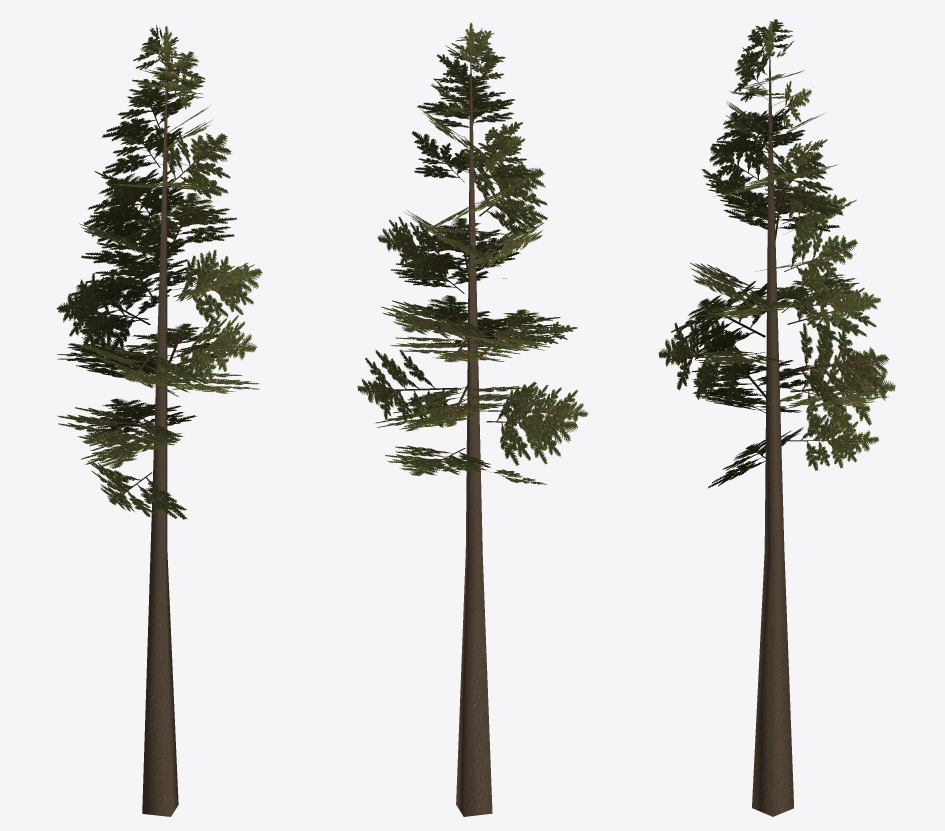
Rendered from fir_giant_b_lod5.gltf.
The picture shows the model from 3 angles, left to right: view 1: azimuth 30°, elevation 25°; view 2: azimuth 150°, elevation 25°; view 3: azimuth 270°, elevation 25°; orthographic projection.
Visible parts, largest first — view 1: fir_giant_b_LOD5; view 2: fir_giant_b_LOD5; view 3: fir_giant_b_LOD5.
Boxes of the visible parts, x1,y1,x2,y2 form: fir_giant_b_LOD5: (56,25,262,816); fir_giant_b_LOD5: (357,22,588,816); fir_giant_b_LOD5: (658,19,895,816).
Bounding box in the file's own units: 14.75 × 44.59 × 15.36.
Materials: 2 (2 with a texture image).
